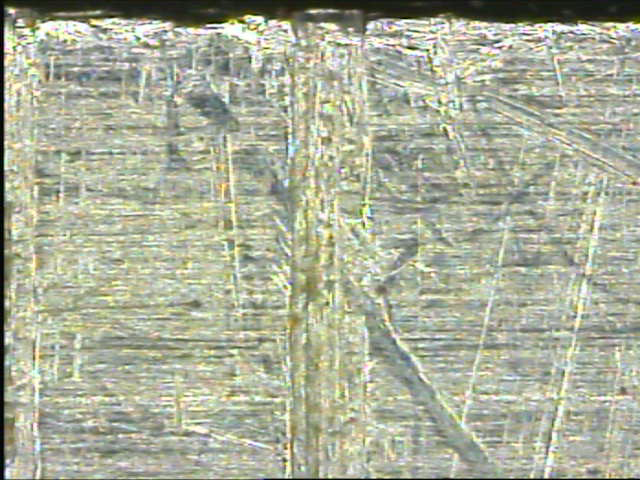line: (285, 8, 373, 475)
